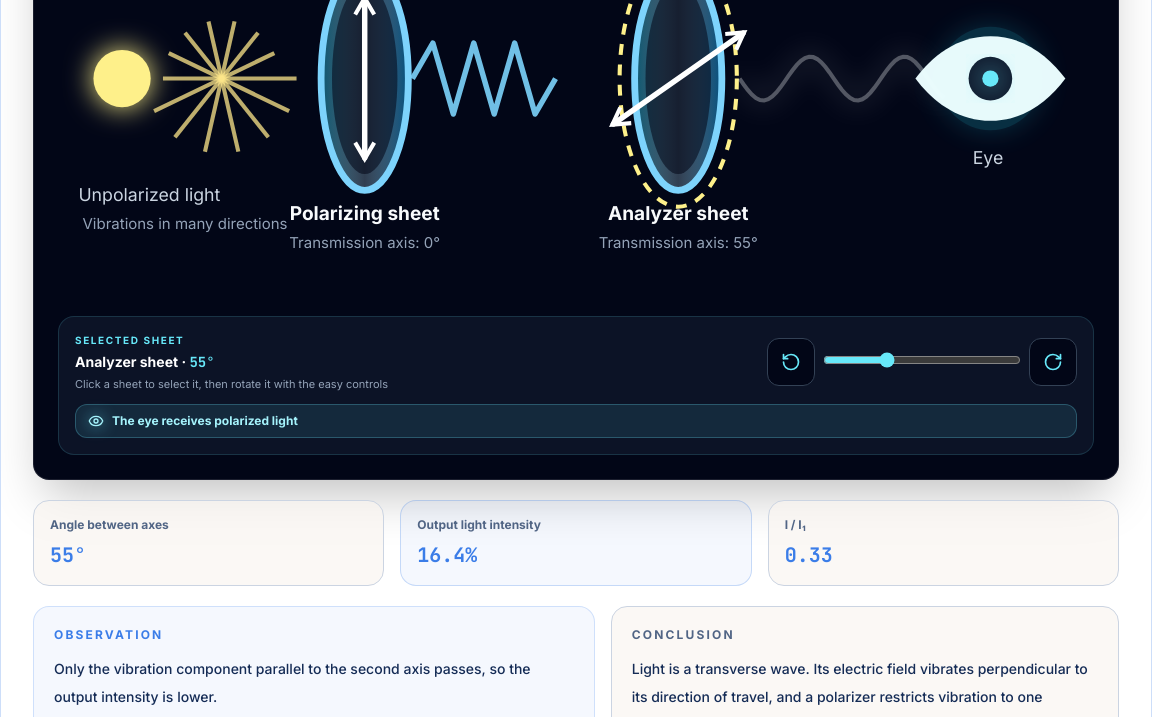
Test case: LightWavePolarizationActivity › dims the eye when crossed sheets block the polarized light
This screenshot has width=1152, height=717.
Earlier steps of the test are not shown.
(page scrolled)
Set the slider named "Rotate the selected sheet" to "90" at (922, 360), box left=823, top=352, right=1021, bottom=368
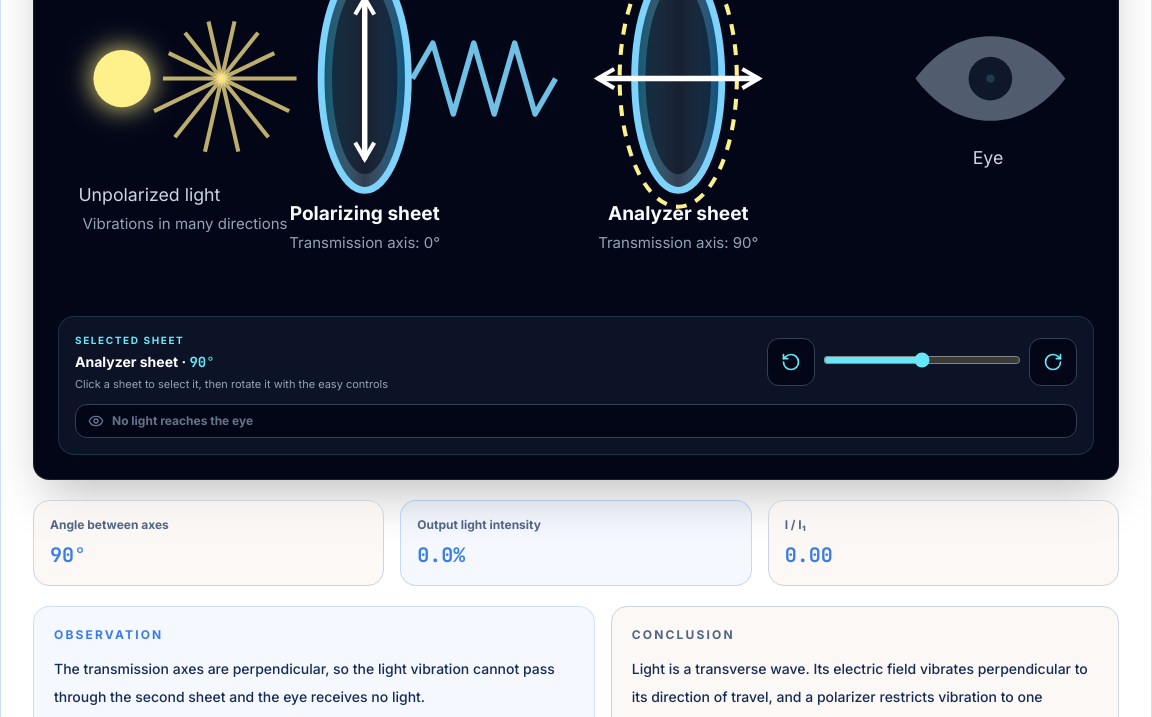
Check: the text "No light reaches the eye" is shown, box left=112, top=413, right=253, bottom=429
